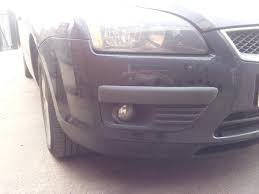Scratch: (117, 65, 181, 84)
